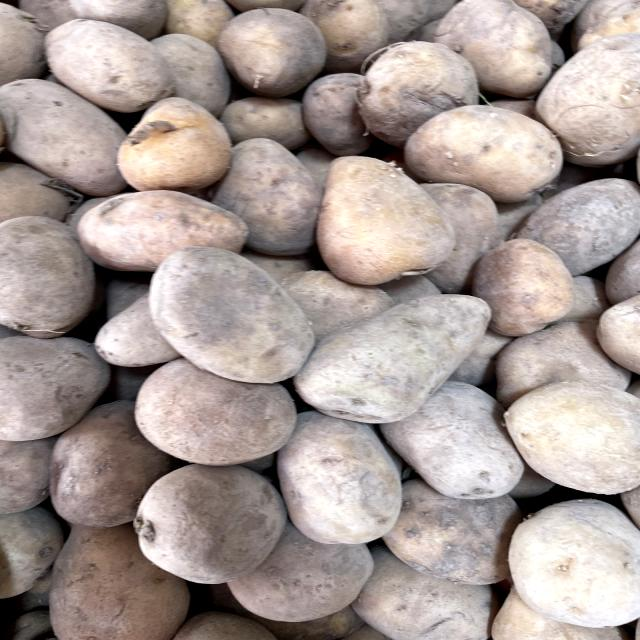potato: (283, 285, 507, 431), (144, 240, 331, 395), (109, 443, 304, 591), (303, 140, 468, 284), (263, 395, 417, 549), (51, 172, 261, 268), (392, 92, 572, 197), (108, 85, 256, 196), (37, 7, 183, 118)
